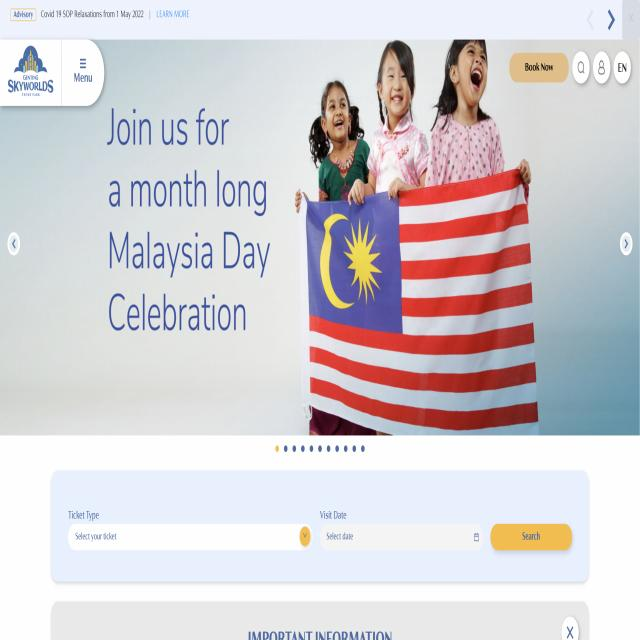Logo: (0, 39, 57, 107)
